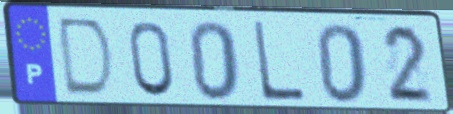0: (186, 18, 242, 103), (314, 21, 370, 106), (126, 19, 176, 99)
2: (380, 23, 436, 107)
D: (57, 15, 118, 101)
L: (249, 19, 308, 104)
